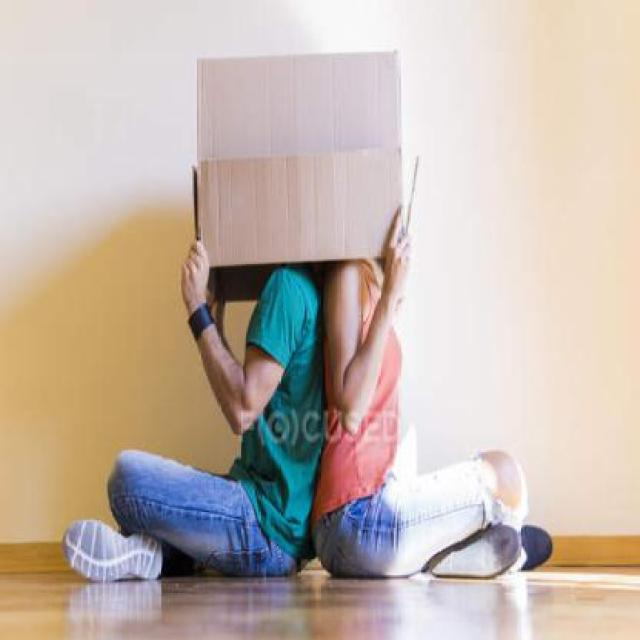box: (172, 31, 440, 338)
